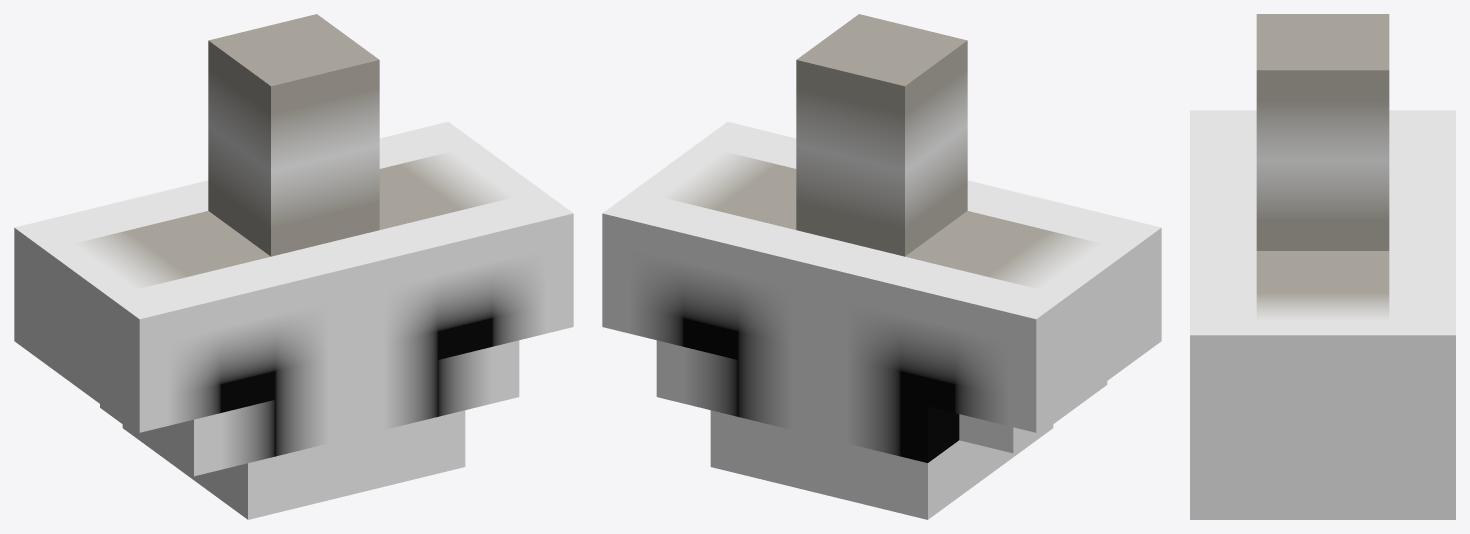
File: skeleton_pelvis.fbx
3 views of the same model, side by side, from view 1: azimuth 30°, elevation 25°; view 2: azimuth 150°, elevation 25°; view 3: azimuth 270°, elevation 25° (orthographic). The views are drawn at different scales.
Visible parts, largest first — view 1: skeleton_pelvis; view 2: skeleton_pelvis; view 3: skeleton_pelvis.
Boxes of the visible parts, left/top/right/bottom form: skeleton_pelvis: left=14, top=14, right=573, bottom=519; skeleton_pelvis: left=602, top=14, right=1161, bottom=519; skeleton_pelvis: left=1190, top=14, right=1455, bottom=519.
Size of the model in its own units: 8 by 7 by 4.
1 material, 1 textured.
